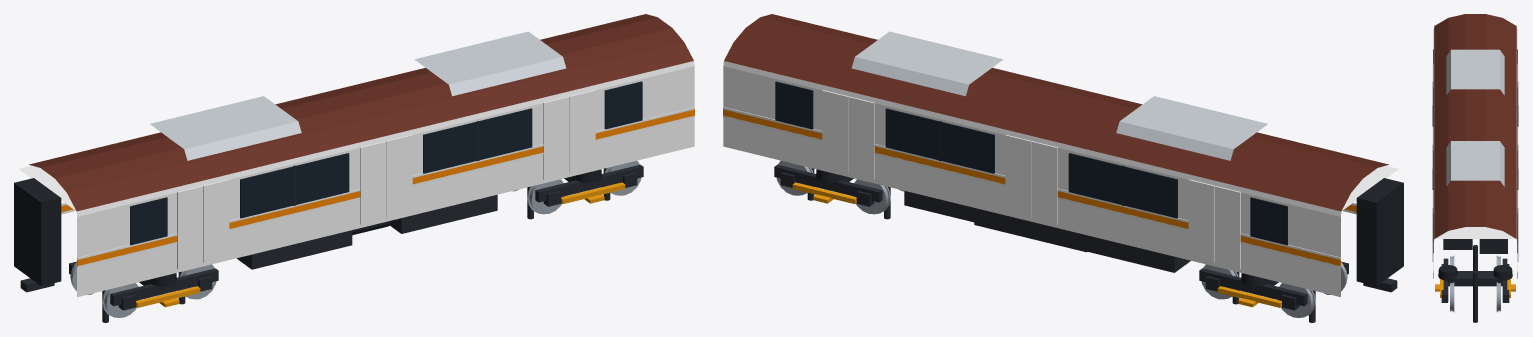
Rendered from tokyo-metro-1000-mid.glb.
3 views of the same model, side by side, from view 1: azimuth 30°, elevation 25°; view 2: azimuth 150°, elevation 25°; view 3: azimuth 270°, elevation 25° (orthographic). The views are drawn at different scales.
Visible parts, largest first — view 1: Roof_Maroon_Crown, Body_Shell, Doors_And_Windows, Roof_HVAC (×2), Car_Canonical, Gangway_Rear, Underfloor_Equipment, Bogie_Rear, Bogie_Front, Door_R_3_Rear, Door_R_1_Fwd, Door_R_1_Rear (+4 smaller); view 2: Roof_Maroon_Crown, Body_Shell, Doors_And_Windows, Roof_HVAC (×2), Car_Canonical, Gangway_Rear, Underfloor_Equipment, Bogie_Rear, Bogie_Front, Door_L_3_Rear, Door_L_1_Fwd, Door_L_1_Rear (+4 smaller); view 3: Roof_Maroon_Crown, Roof_HVAC (×2), Bogie_Front, Body_Shell, Underfloor_Equipment, Wheelset_Front, Doors_And_Windows, Wheelset_Rear, Door_L_3_Fwd, Door_R_3_Fwd.
Part boxes in pixels (<box>): Roof_Maroon_Crown: <box>29,14,693,211</box>; Body_Shell: <box>19,61,694,296</box>; Doors_And_Windows: <box>130,81,642,245</box>; Roof_HVAC (×2): <box>150,31,566,160</box>; Car_Canonical: <box>61,107,694,268</box>; Gangway_Rear: <box>14,178,61,292</box>; Underfloor_Equipment: <box>237,194,497,269</box>; Bogie_Rear: <box>69,261,218,310</box>; Bogie_Front: <box>535,164,643,206</box>; Door_R_3_Rear: <box>543,96,569,179</box>; Door_R_1_Fwd: <box>203,179,229,262</box>; Door_R_1_Rear: <box>177,186,203,269</box>; Roof_Maroon_Crown: <box>724,14,1388,211</box>; Body_Shell: <box>723,61,1398,296</box>; Doors_And_Windows: <box>775,81,1287,245</box>; Roof_HVAC (×2): <box>851,31,1267,160</box>; Car_Canonical: <box>723,107,1356,268</box>; Gangway_Rear: <box>1356,178,1403,292</box>; Underfloor_Equipment: <box>904,191,1190,272</box>; Bogie_Rear: <box>1199,261,1348,310</box>; Bogie_Front: <box>774,164,882,206</box>; Door_L_3_Rear: <box>848,96,874,179</box>; Door_L_1_Fwd: <box>1188,179,1214,262</box>; Door_L_1_Rear: <box>1214,186,1240,269</box>; Roof_Maroon_Crown: <box>1434,14,1516,238</box>; Roof_HVAC (×2): <box>1446,49,1504,186</box>; Bogie_Front: <box>1435,258,1515,302</box>; Body_Shell: <box>1433,27,1517,241</box>; Underfloor_Equipment: <box>1443,239,1507,253</box>; Wheelset_Front: <box>1450,271,1500,322</box>; Doors_And_Windows: <box>1432,49,1518,253</box>; Wheelset_Rear: <box>1450,245,1500,270</box>; Door_L_3_Fwd: <box>1517,199,1518,261</box>; Door_R_3_Fwd: <box>1432,199,1433,261</box>.
Size of the model in its own units: 16 by 4.05 by 2.63.
